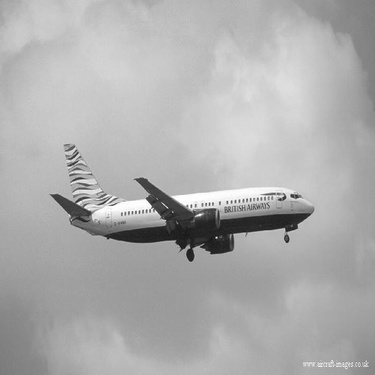airplane: (41, 135, 317, 265)
